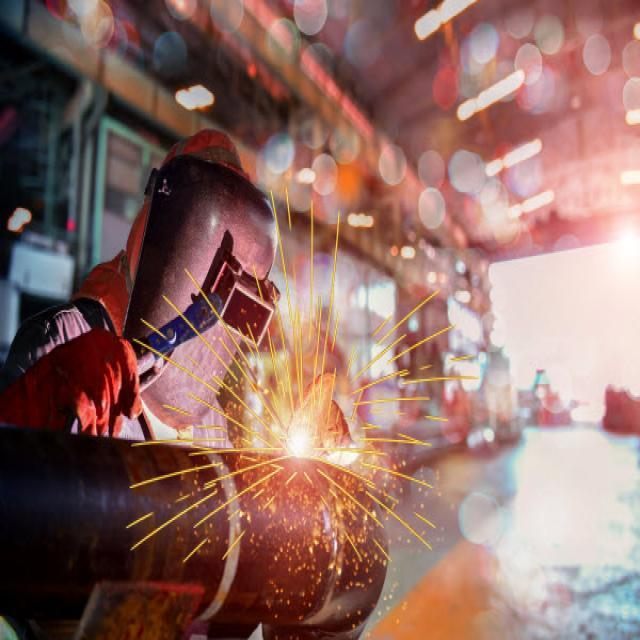with_helmet: (124, 155, 278, 427)
